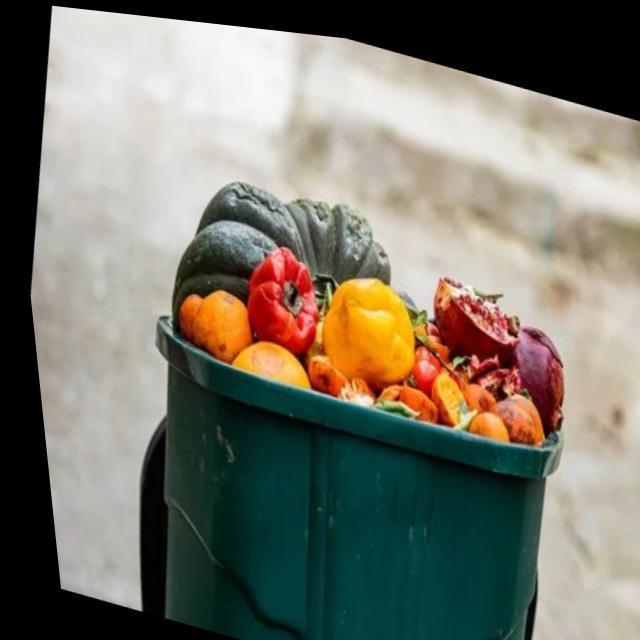Garbage: (155, 175, 557, 432)
